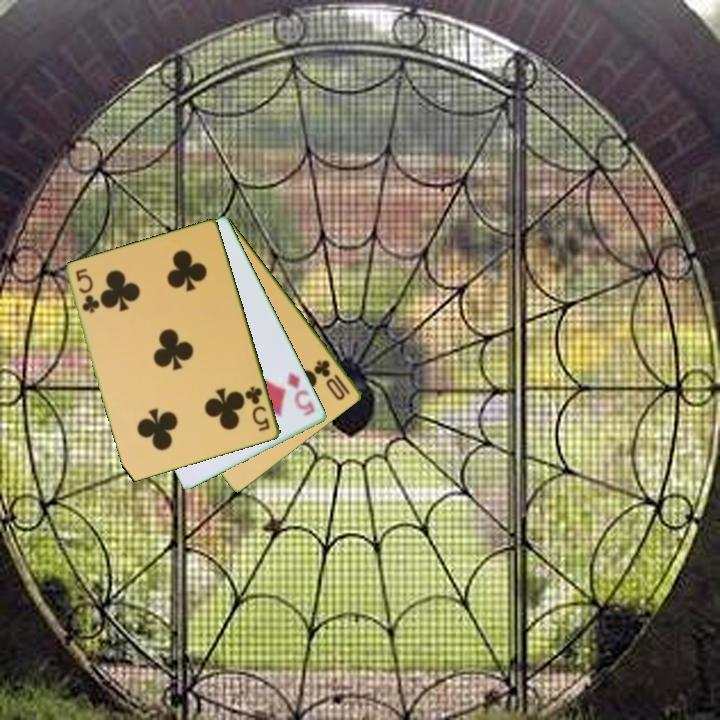10c: (311, 356, 353, 404)
5c: (242, 383, 273, 435), (73, 265, 101, 316)
5d: (283, 369, 318, 419)
